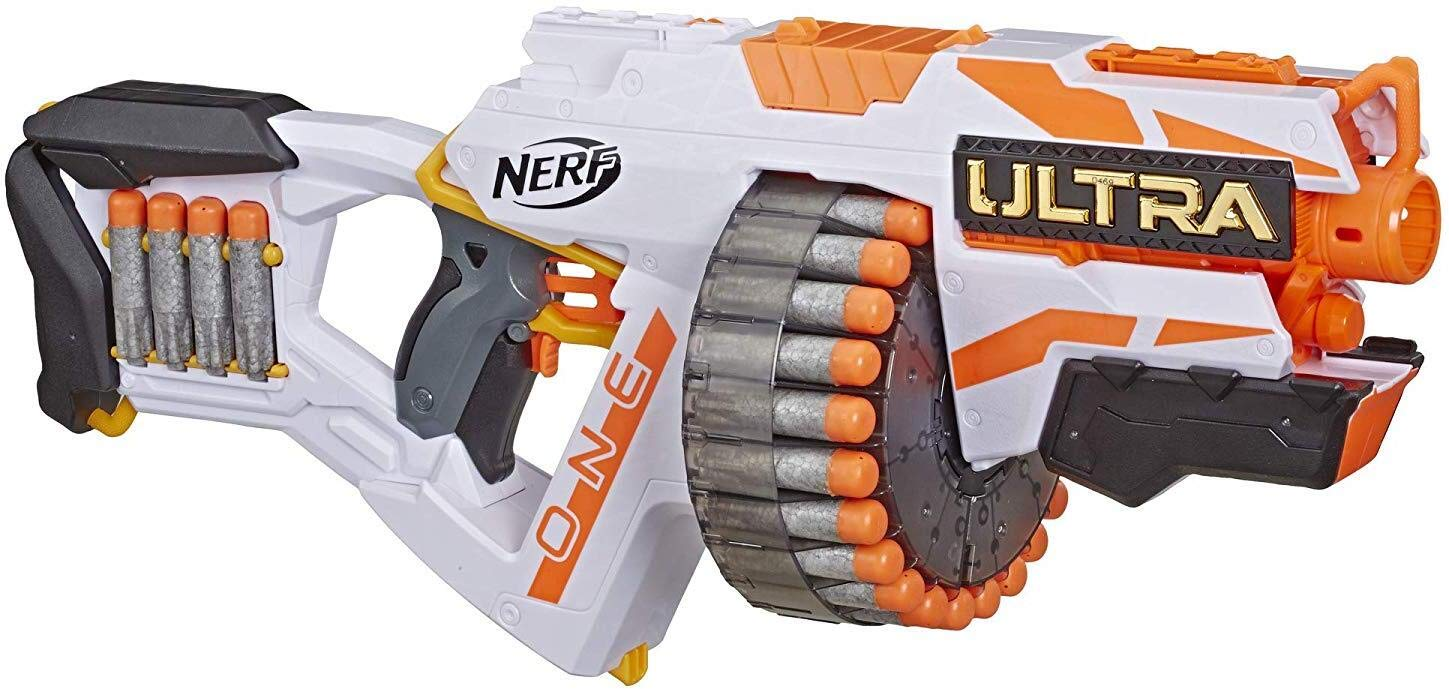Arma Falsa: (9, 8, 1449, 685)
